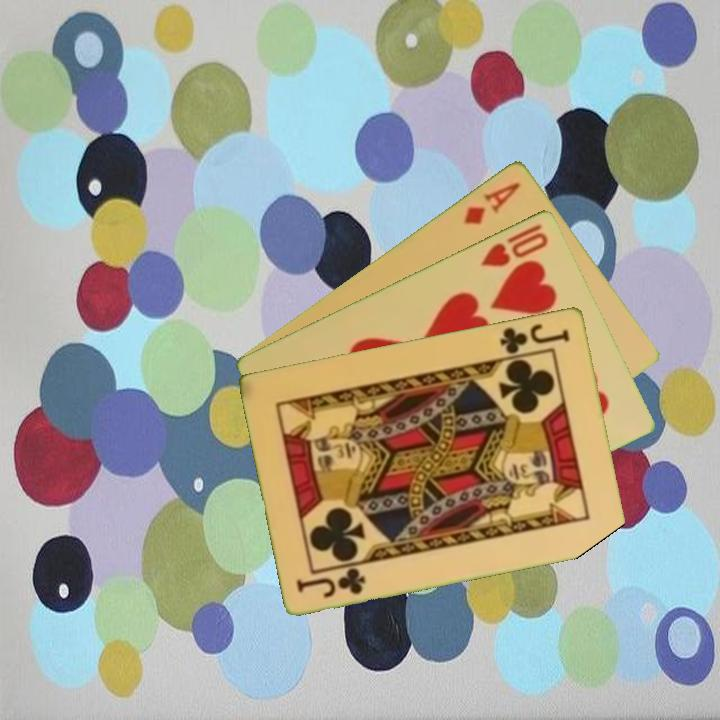10h: (477, 219, 552, 270)
Ad: (460, 177, 524, 228)
Jc: (496, 319, 573, 357), (293, 564, 369, 600)
